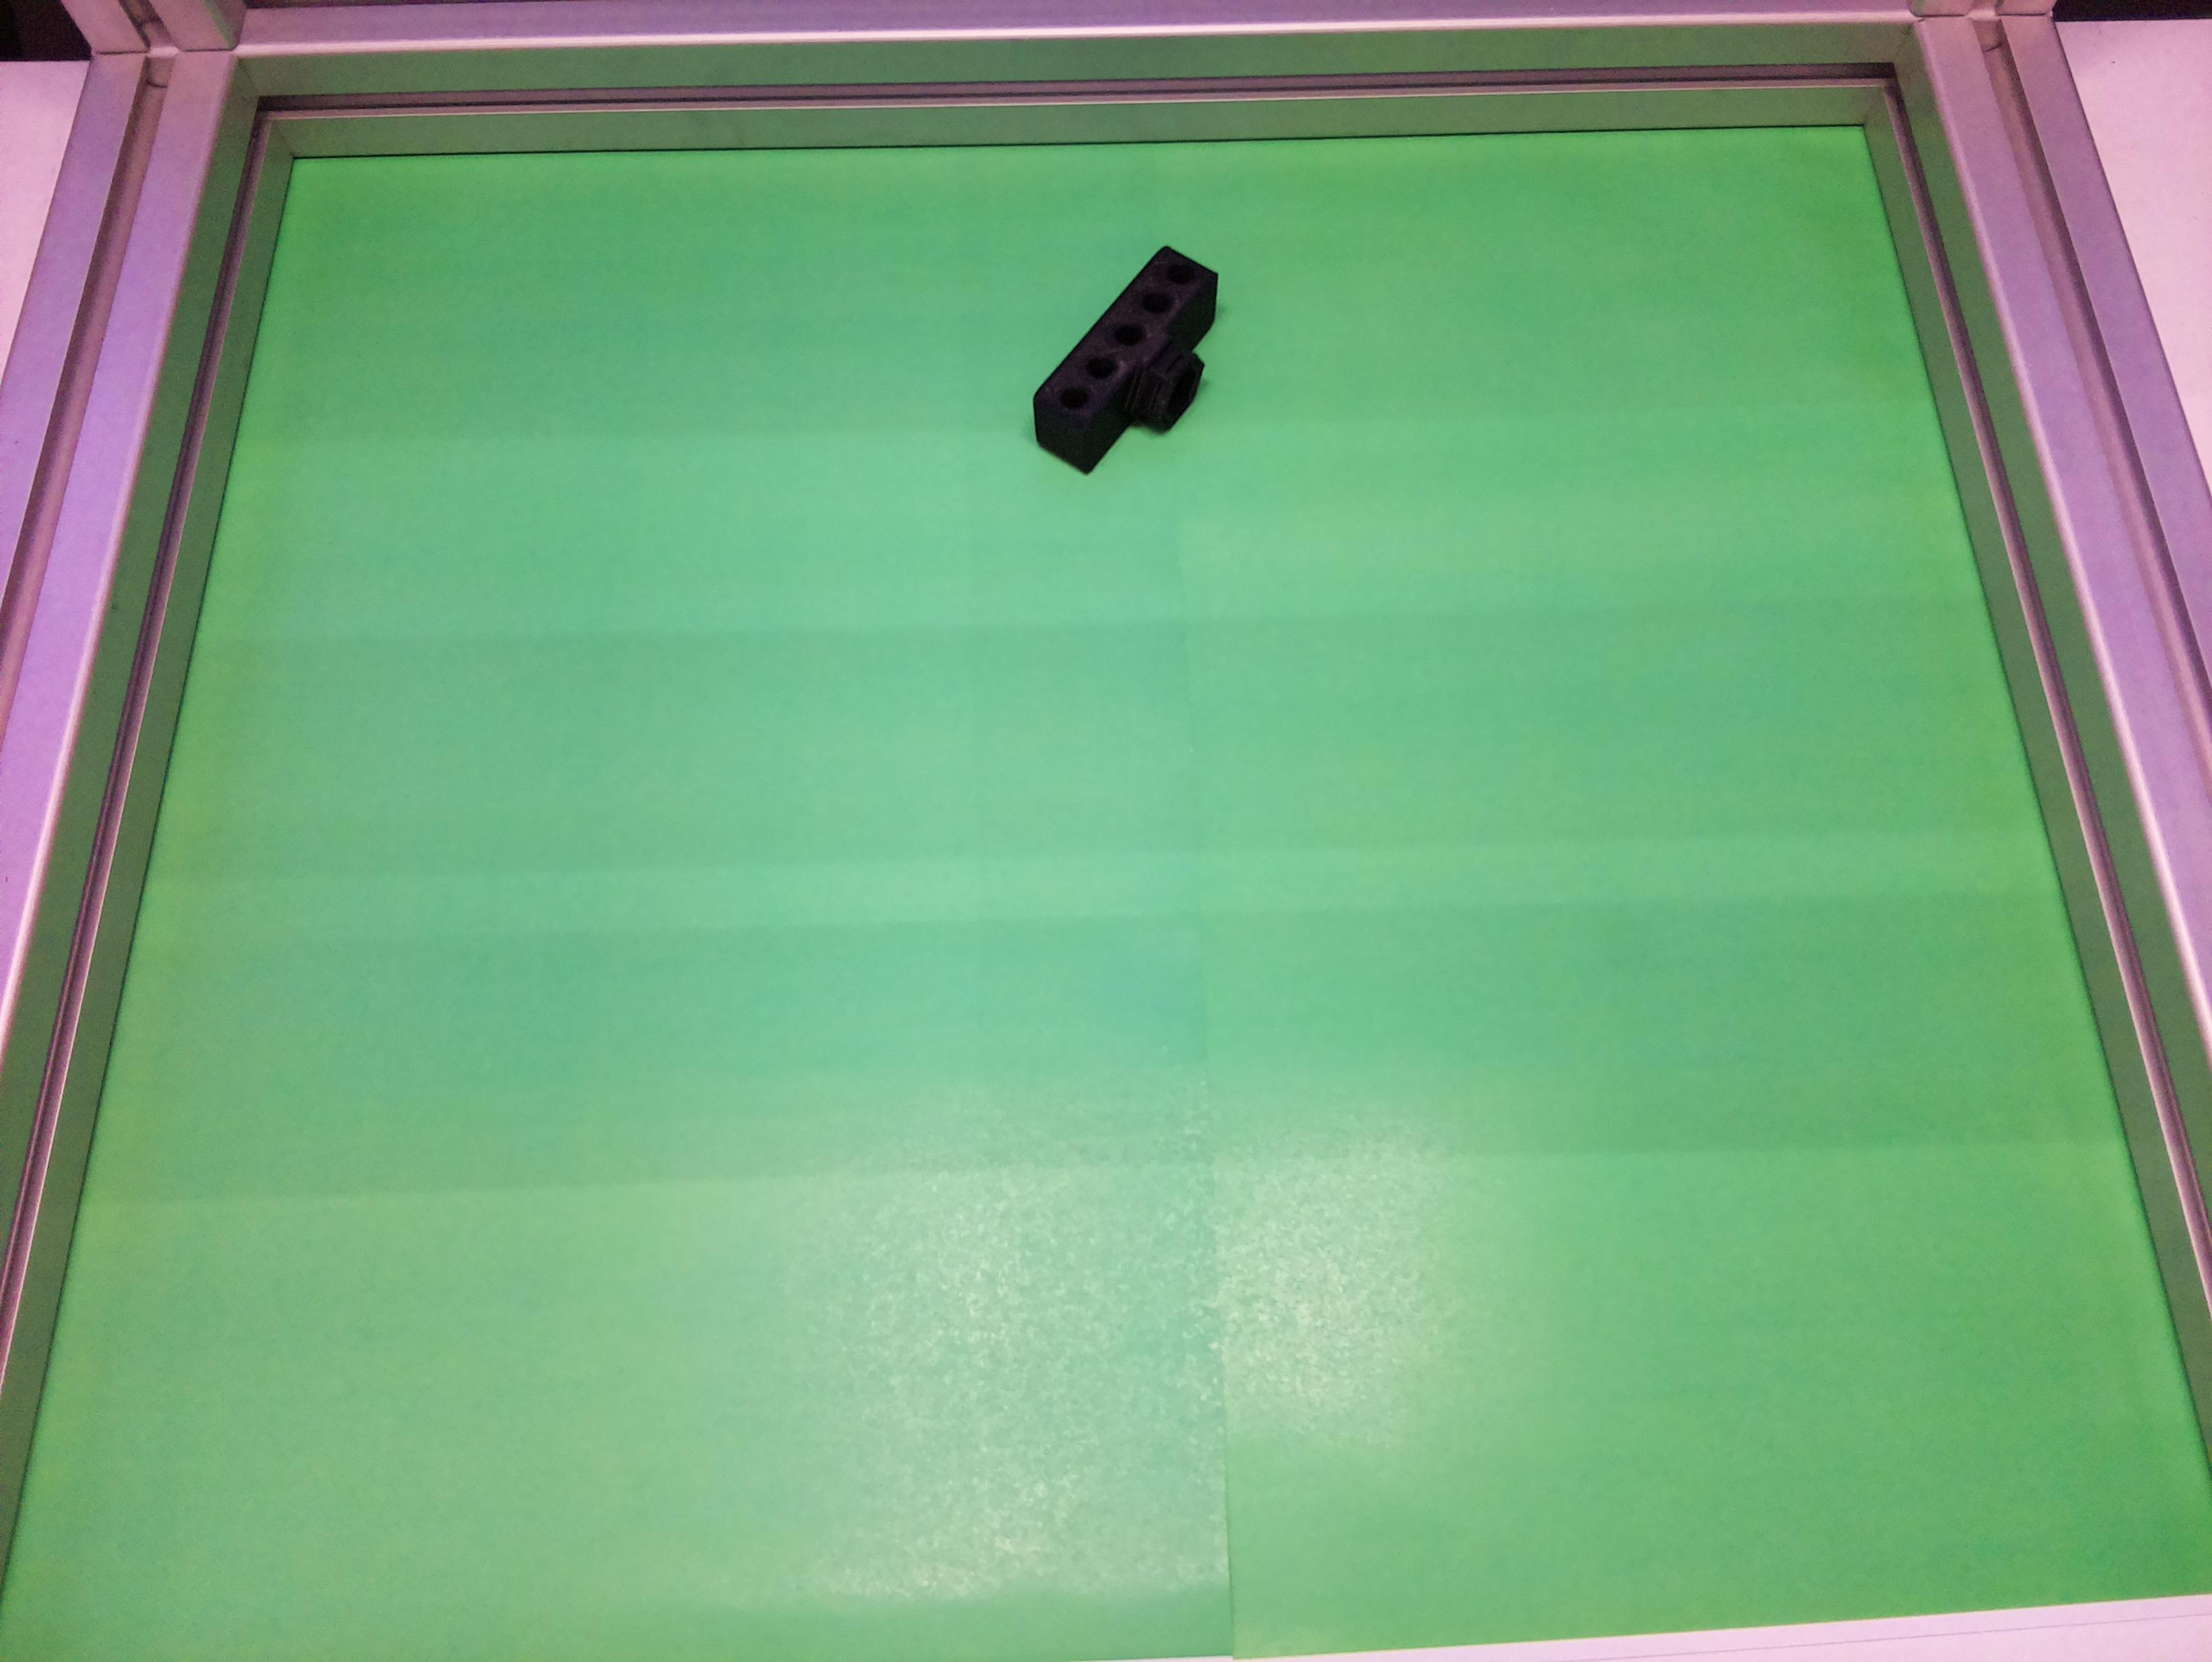bit_holder: (1011, 234, 1266, 503)
